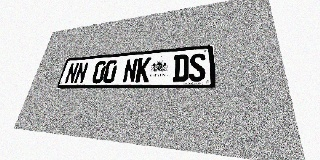0: (91, 60, 107, 83), (102, 60, 118, 83)
D: (172, 54, 189, 82)
K: (135, 57, 151, 83)
N: (122, 58, 138, 83), (73, 62, 89, 84), (64, 63, 79, 84)
S: (189, 53, 206, 82)
